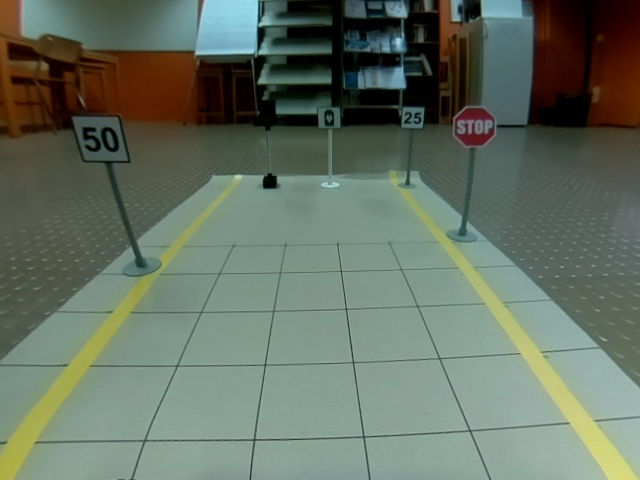battery: (317, 106, 341, 130)
speed25: (401, 106, 425, 128)
speed50: (70, 114, 131, 164)
stop: (452, 106, 496, 148)
trafficLightOff: (260, 100, 276, 126)
